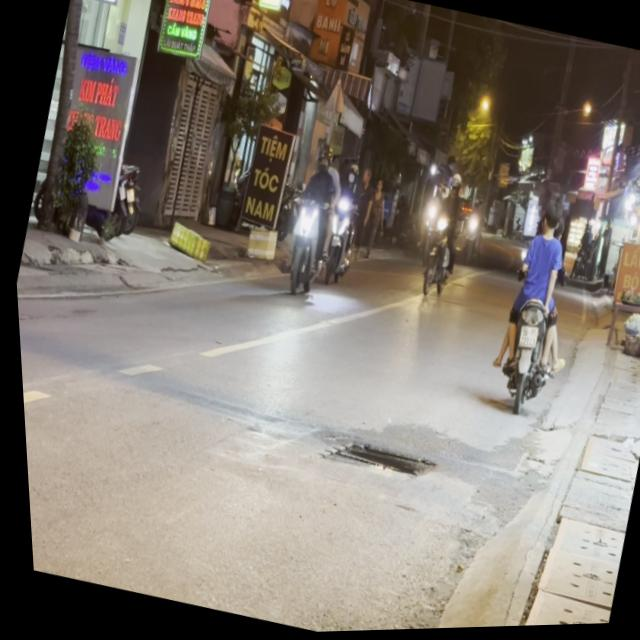licenseplate: (468, 191, 593, 420)
motorcyclist: (533, 201, 561, 239)
nohelmet: (512, 326, 534, 351)
